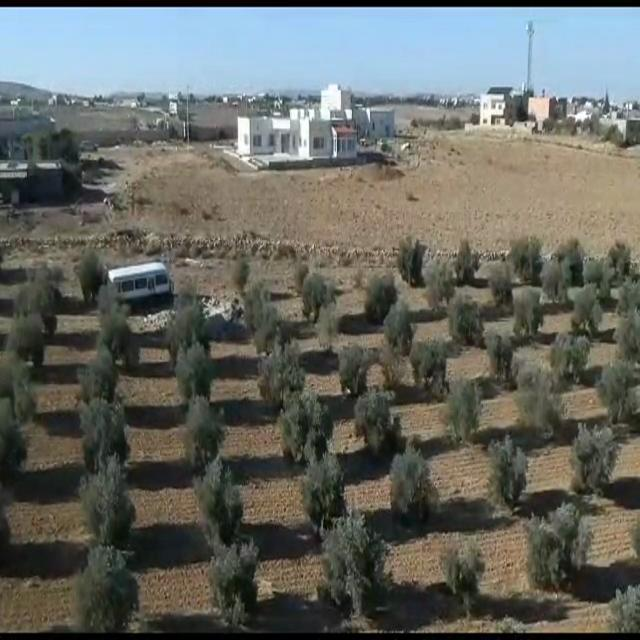trees: (314, 505, 392, 615), (517, 502, 591, 594), (568, 412, 626, 514), (72, 537, 139, 617), (208, 532, 265, 615), (430, 532, 489, 608), (196, 455, 246, 541), (382, 448, 436, 527), (355, 385, 402, 468), (90, 292, 141, 367), (82, 464, 135, 534), (75, 394, 129, 462), (282, 392, 334, 459), (484, 439, 534, 507), (596, 344, 638, 420), (520, 366, 566, 431), (15, 264, 60, 330), (74, 344, 125, 402), (304, 452, 345, 522), (444, 376, 482, 446), (168, 289, 209, 352), (4, 311, 51, 365), (0, 346, 36, 415), (180, 399, 218, 462), (264, 344, 302, 407), (247, 279, 279, 351), (0, 392, 32, 463), (548, 328, 593, 377), (173, 334, 209, 393), (421, 334, 455, 391), (484, 329, 522, 380), (297, 261, 328, 321), (341, 342, 372, 402), (451, 286, 483, 344), (72, 249, 104, 306), (512, 288, 550, 336), (508, 234, 544, 283), (364, 269, 397, 322), (565, 286, 608, 326), (394, 233, 426, 285), (228, 233, 260, 283), (485, 261, 514, 309), (545, 255, 573, 303), (383, 301, 414, 341), (585, 253, 615, 294), (425, 267, 452, 309), (381, 346, 410, 384), (610, 313, 640, 349), (560, 233, 590, 267), (610, 234, 634, 274), (616, 277, 640, 315), (456, 242, 480, 277), (320, 312, 339, 351)
